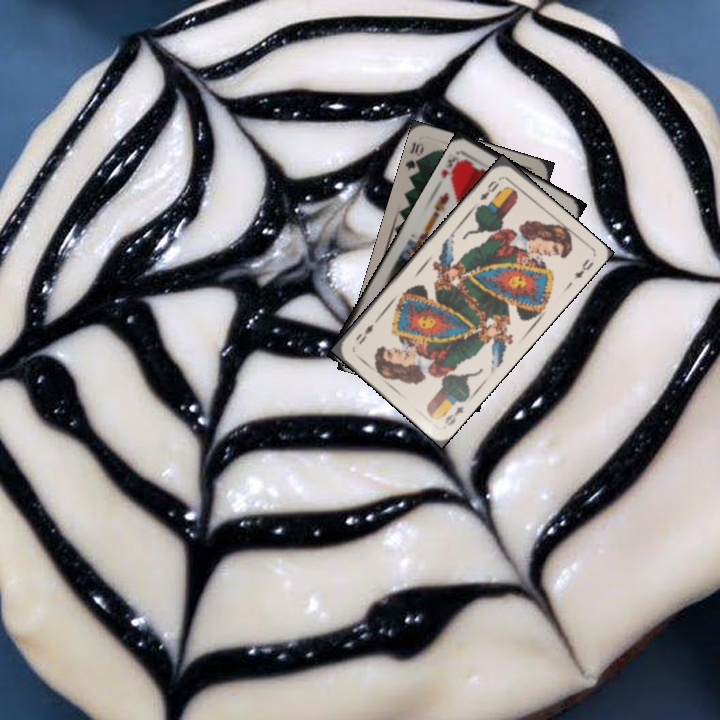EO: (475, 176, 502, 203), (440, 402, 467, 429)
G10: (402, 137, 427, 178)
HK: (437, 147, 468, 186)
